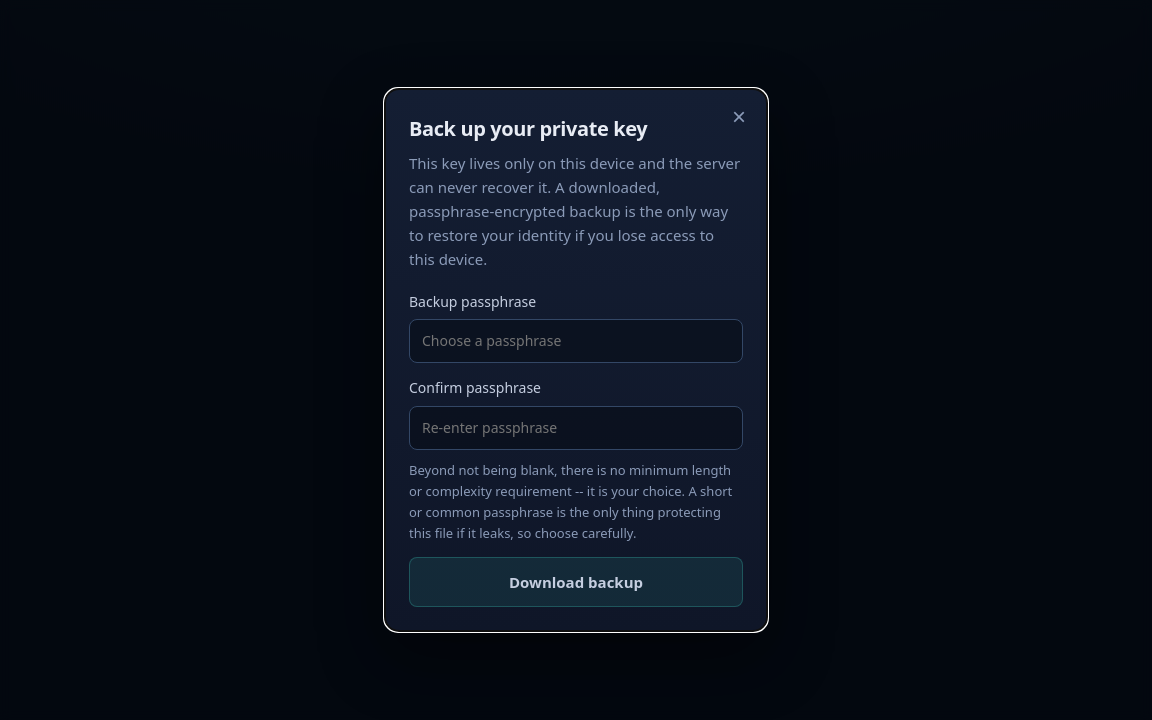
Test case: BackupIdentityDialog › requires a passphrase before submitting
Step 1. Click the button "Download backup" → (576, 582), box [409, 557, 743, 607]
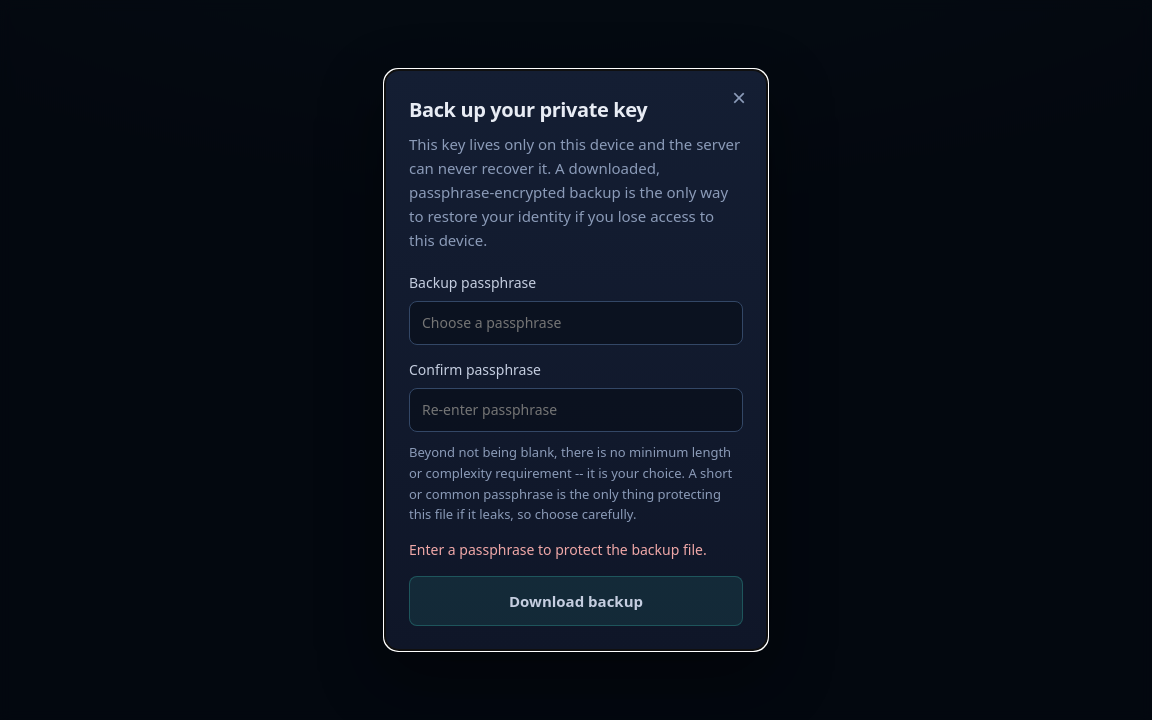
Expected: the message reads "Enter a passphrase to protect the backup file.", [409, 540, 707, 559]
